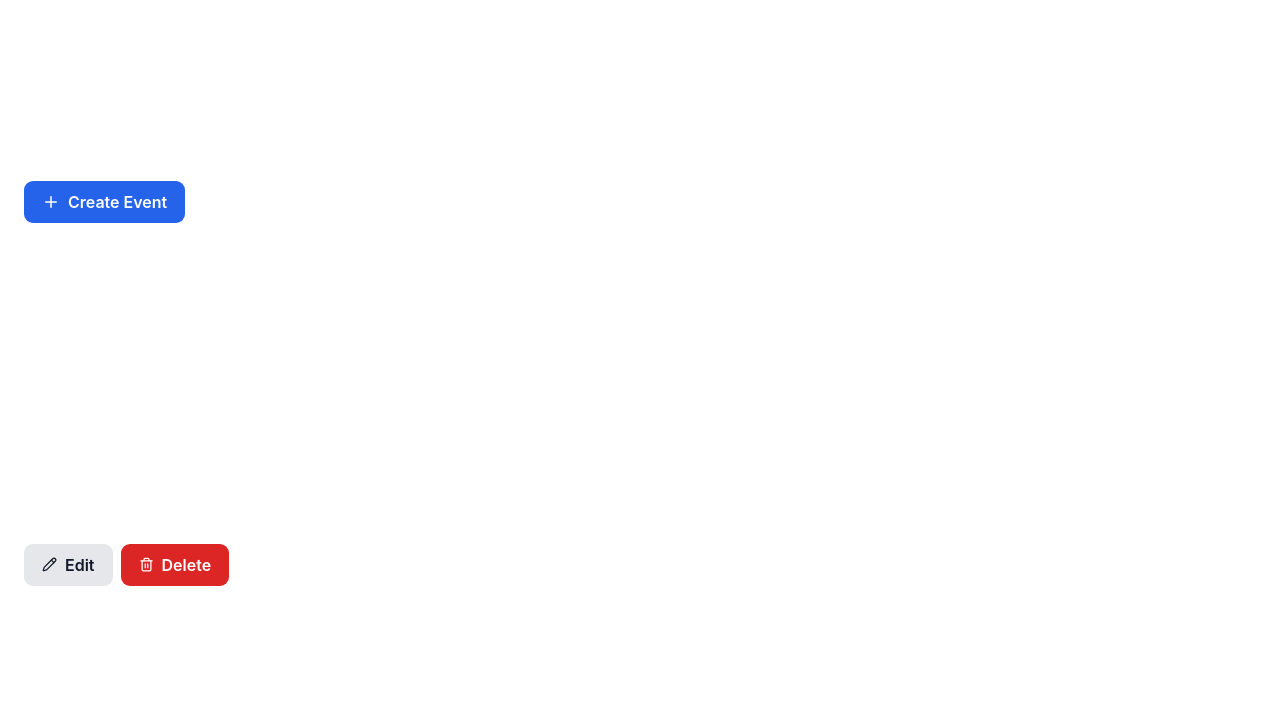
Scenario: Events Page › creates a new event with valid details
Click the button "Create Event" at (105, 202), box [24,181,185,223]
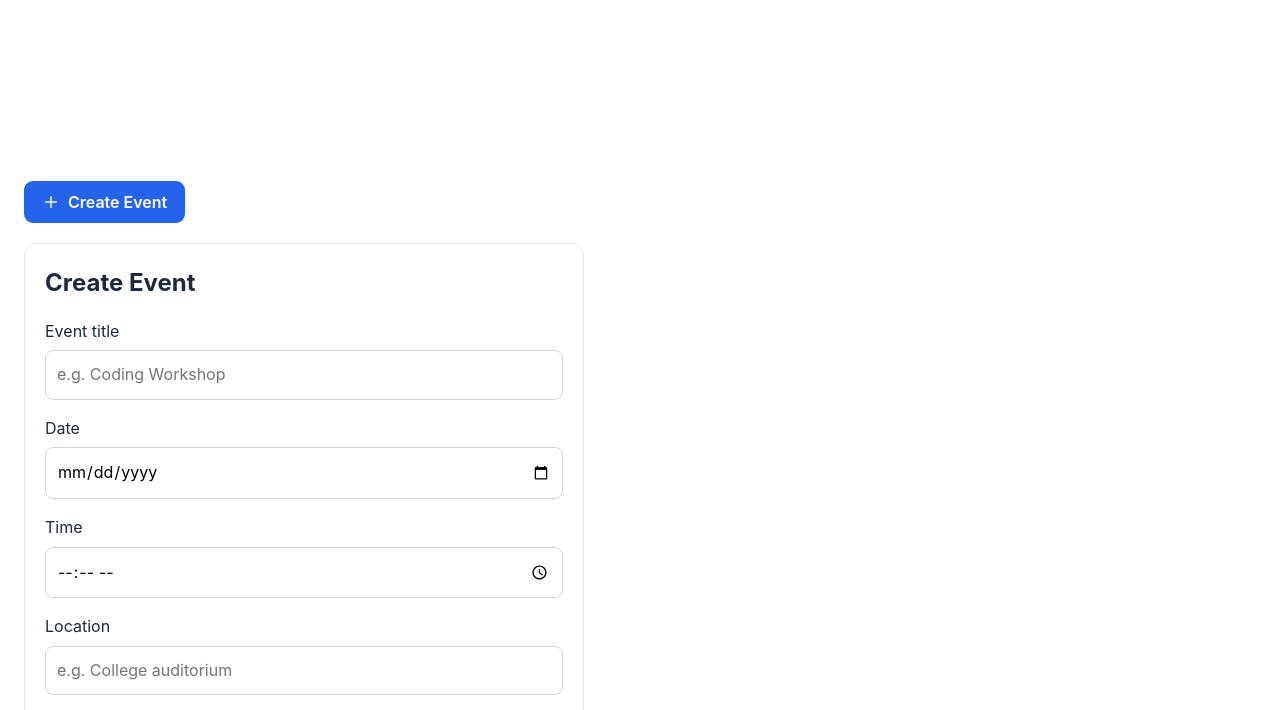
Type "AI Workshop" into the field labelled "Event title" at (304, 375), box [45,350,563,400]
Type "2026-12-15" into the date field labelled "Date" at (304, 473), box [45,447,563,499]
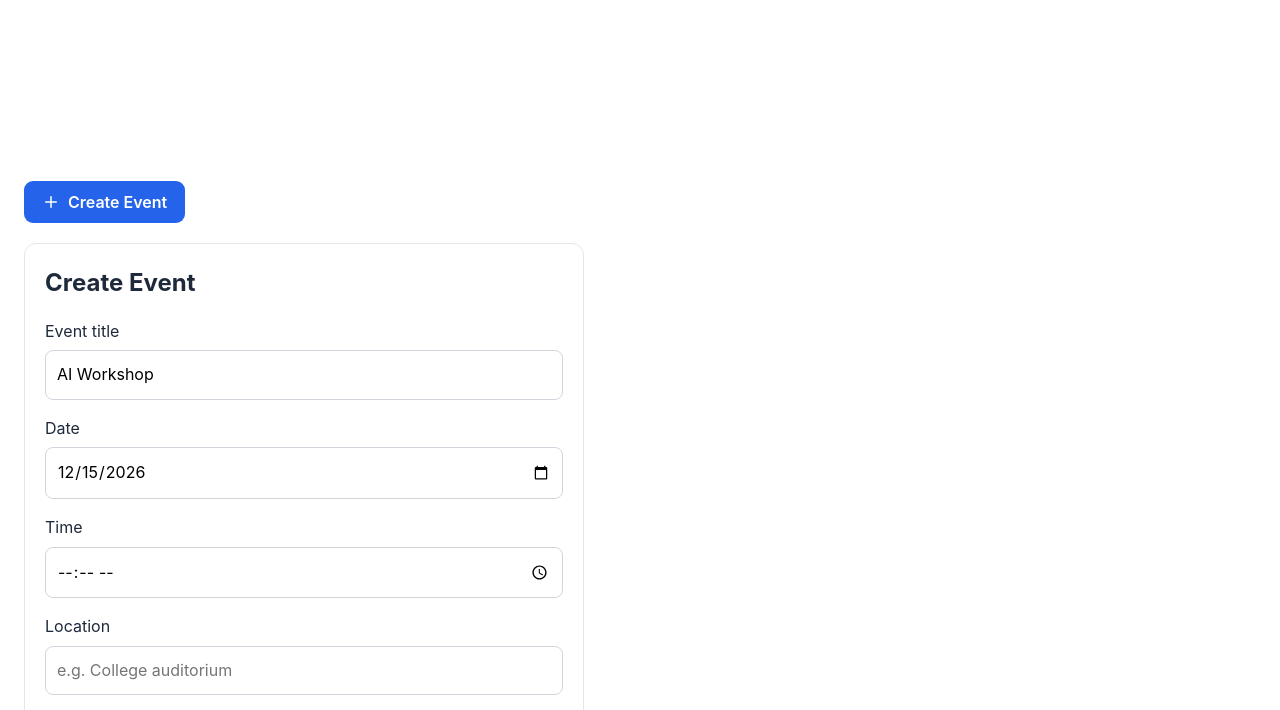
Type "11:30" into the time field labelled "Time" at (304, 572), box [45,546,563,598]
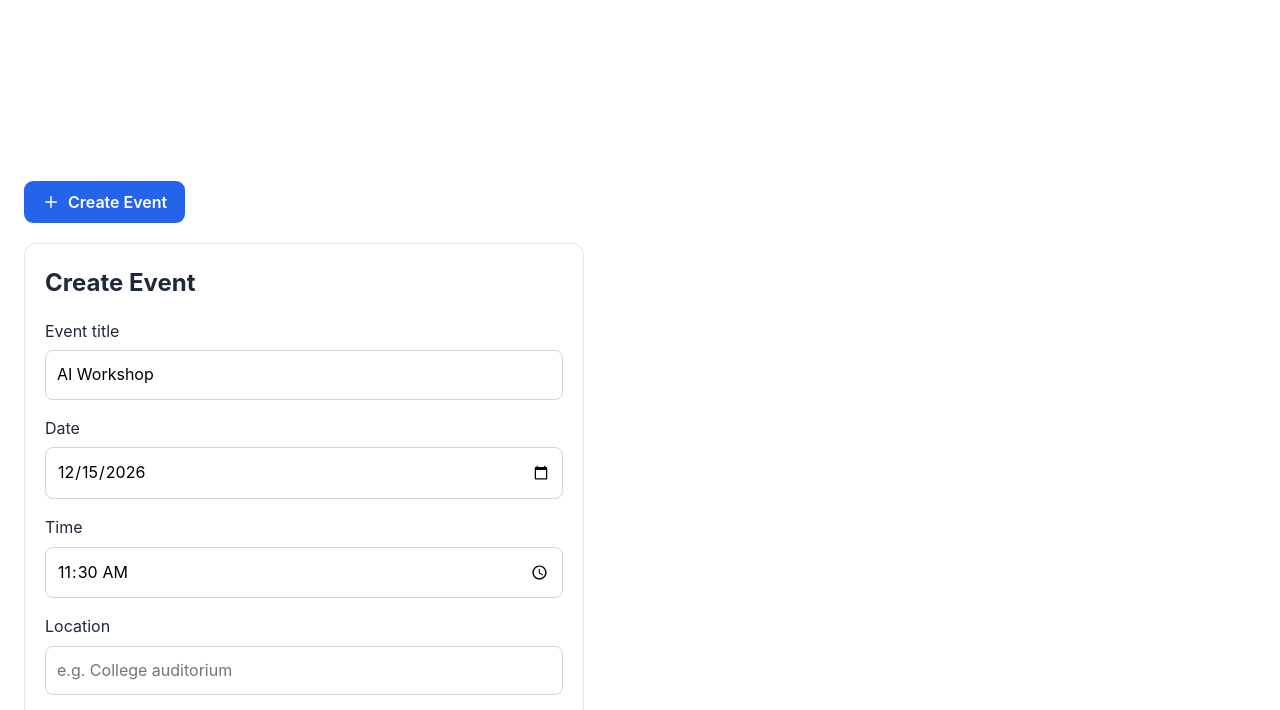
Type "Seminar Hall" into the field labelled "Location" at (304, 670), box [45,646,563,695]
(page scrolled)
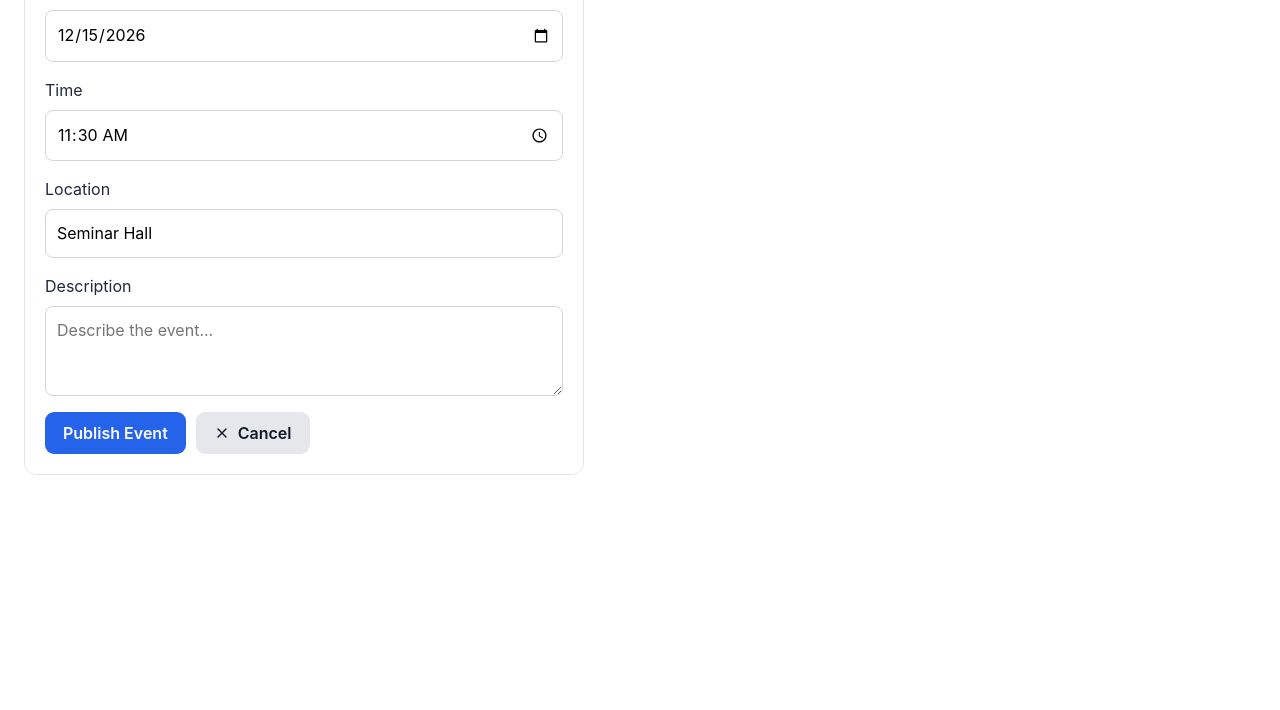
Type "Learn about artificial intelligence." into the text box labelled "Description" at (304, 351), box [45,306,563,396]
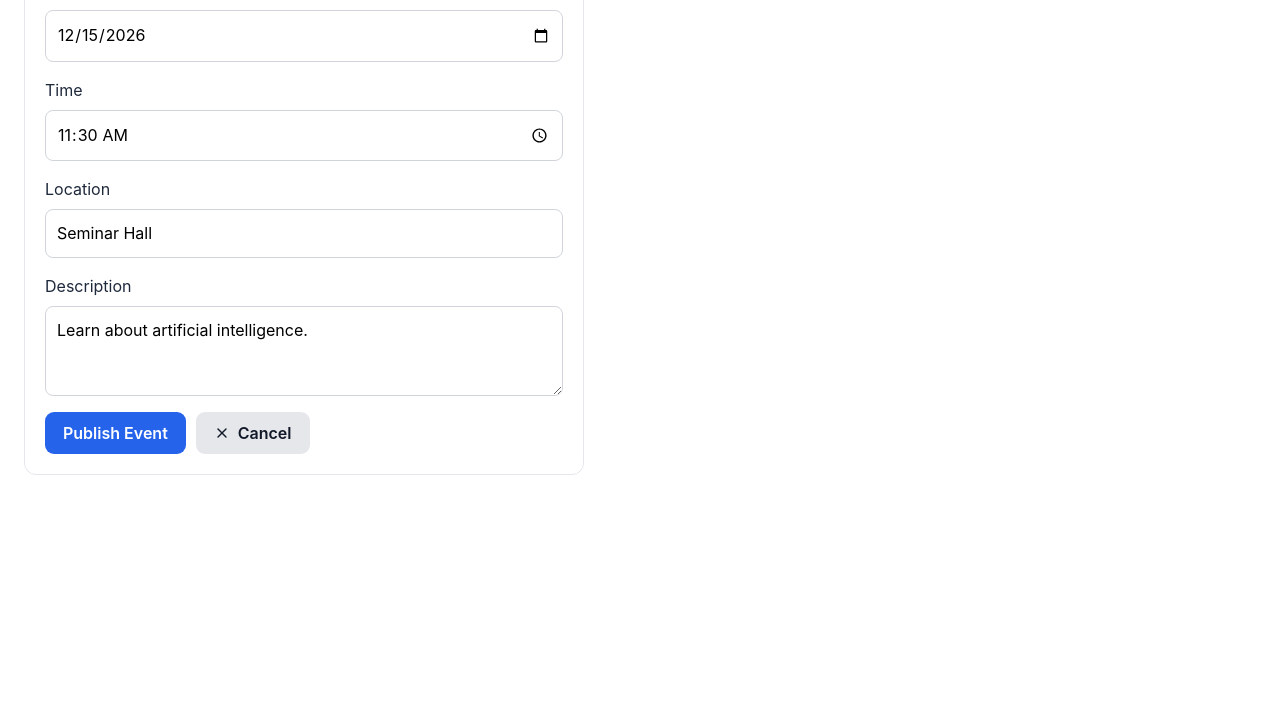
Click the button "Publish Event" at (115, 433), box [45,412,186,454]
(page scrolled)
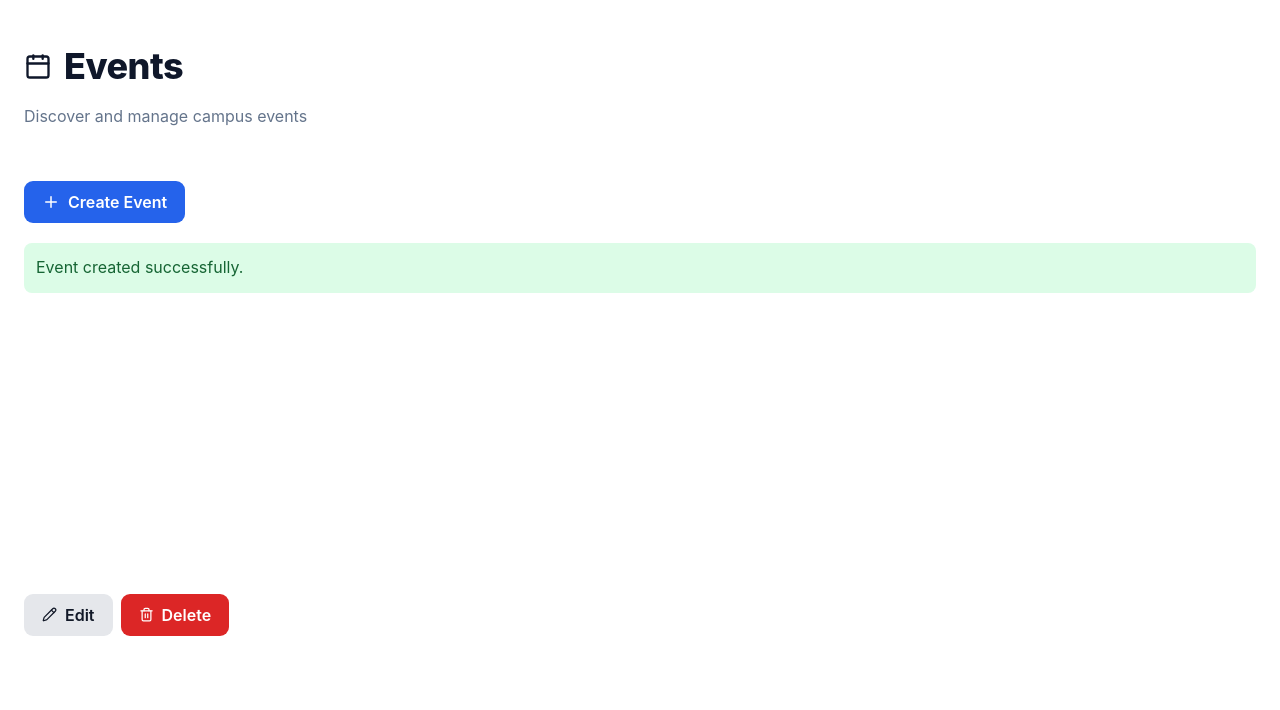
Expected: the message reads "Event created successfully.", [36,257,243,277]
